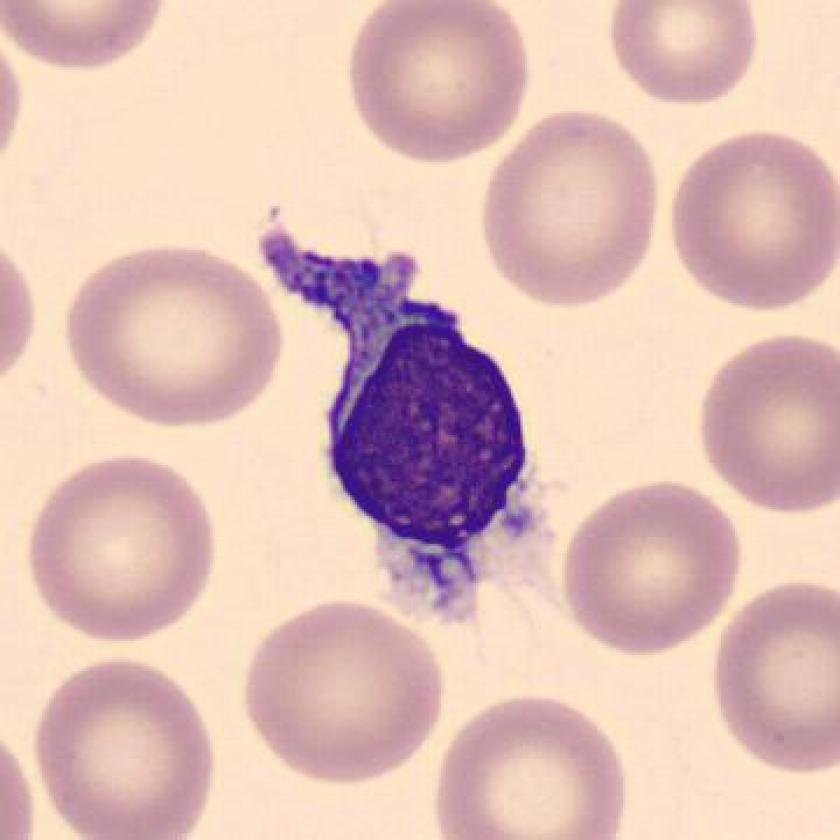lymphocyte: (246, 200, 575, 626)
